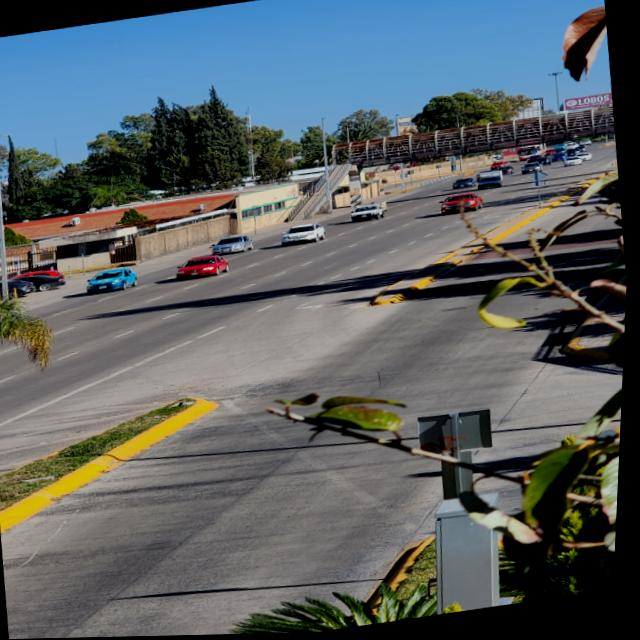Auto: (87, 265, 142, 296), (179, 253, 234, 283), (13, 267, 67, 296), (280, 222, 328, 248), (441, 191, 487, 217), (215, 233, 258, 258), (0, 274, 34, 302), (351, 205, 387, 225), (476, 171, 505, 192), (455, 178, 479, 192), (521, 162, 545, 176)
